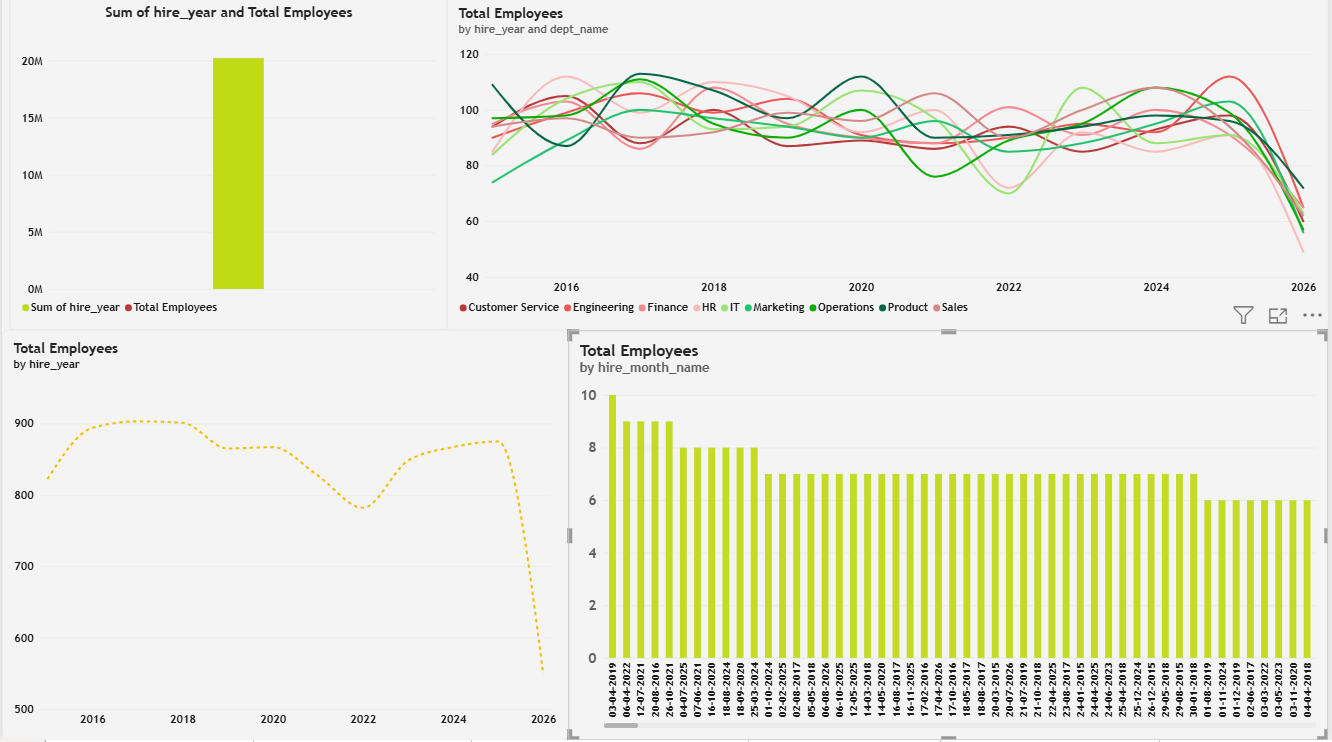

The page's visual inventory and layout, read from the dashboard file:
{"tool":"powerbi","page":{"name":" Hiring & Workforce Trends","canvas":[1920,1080],"ordinal":5},"visuals":[{"type":"columnChart","fields":{"Y":["Sum(emp_info.hire_year)","emp_info.Total Employees"]},"box":[10.9,0,633.4,486.8],"z":0},{"type":"columnChart","fields":{"Category":["emp_info.hire_month_name"],"Y":["emp_info.Total Employees"]},"box":[819.8,486.8,1100.3,593.6],"z":1000},{"type":"lineChart","fields":{"Category":["emp_info.hire_year"],"Series":["DimDepartment.dept_name"],"Y":["emp_info.Total Employees"]},"box":[644.2,1.8,1275.8,485],"z":2000},{"type":"lineChart","fields":{"Category":["emp_info.hire_year"],"Y":["emp_info.Total Employees"]},"box":[0,486.8,819.8,593.6],"z":3000}]}

Visuals, with their boxes in screenshot pixels (x1, y1, x2, y2), scaled from the page's 1920x1080 canvas onto the 1332x742 screenshot:
columnChart - Sum(emp_info.hire_year) x emp_info.Total Employees: bbox=[8, 0, 447, 334]
columnChart - emp_info.hire_month_name x emp_info.Total Employees: bbox=[569, 334, 1331, 741]
lineChart - emp_info.hire_year x DimDepartment.dept_name: bbox=[447, 1, 1331, 334]
lineChart - emp_info.hire_year x emp_info.Total Employees: bbox=[0, 334, 569, 741]
